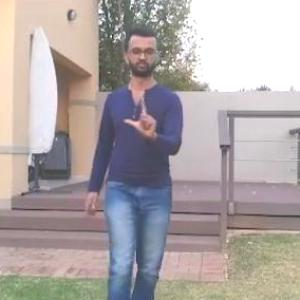land_hand: (121, 88, 166, 144)
